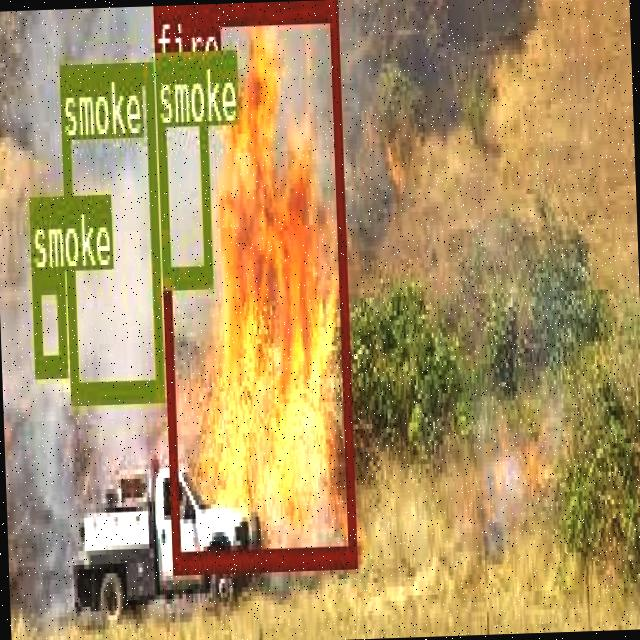fire: (151, 0, 353, 570)
smoke: (57, 58, 162, 397), (153, 49, 211, 286), (31, 270, 65, 374)
